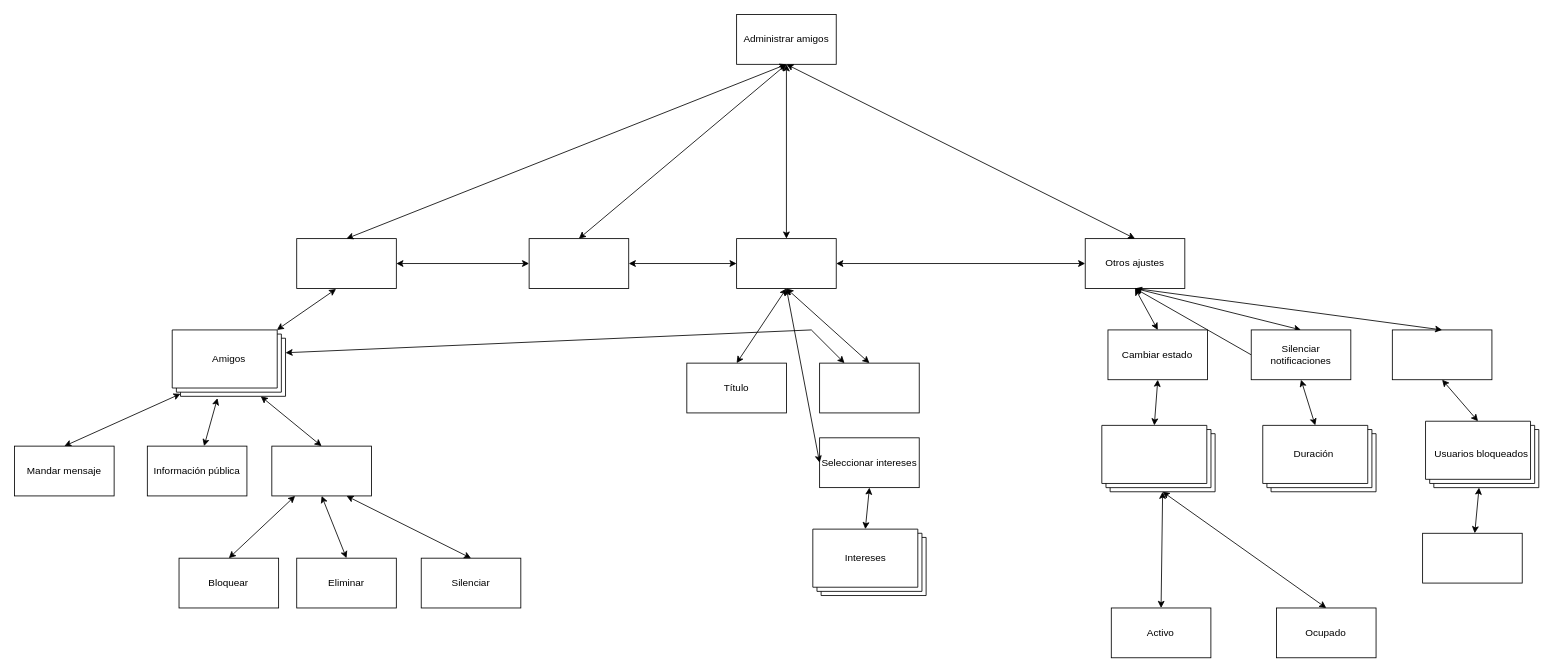
This 1554x672 diagram has some shape labels left out. Each missing label, with the centre of its shape:
"Buscar usuario" goes at point (578, 263).
"Crear grupo" goes at point (786, 263).
"Desbloquear" goes at point (1472, 557).
"Estados" goes at point (1158, 458).
"Lista amigos" goes at point (346, 263).
"Lista usuarios bloqueados" goes at point (1441, 354).
"Otras opciones" goes at point (321, 470).
"Seleccionar amigos" goes at point (869, 387).
